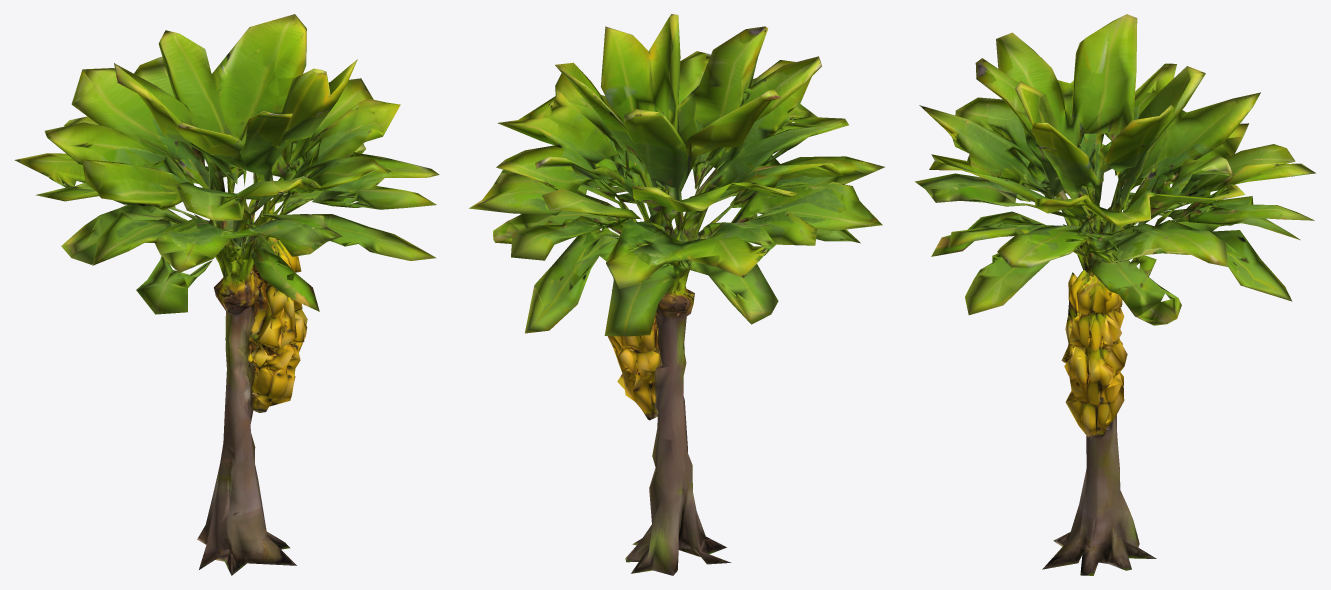
The model's file is pohon_pisang.glb.
3 renders of one model, left to right at view 1: azimuth 30°, elevation 25°; view 2: azimuth 150°, elevation 25°; view 3: azimuth 270°, elevation 25°, orthographic. The views are drawn at different scales.
Parts seen in each view (by area): view 1: Mesh_0.002; view 2: Mesh_0.002; view 3: Mesh_0.002.
Part boxes in pixels (x1=…): Mesh_0.002: x1=14, y1=14, x2=439, y2=575; Mesh_0.002: x1=469, y1=14, x2=884, y2=575; Mesh_0.002: x1=915, y1=14, x2=1315, y2=575.
Size of the model in its own units: 4.16 by 6 by 4.44.
1 material, 1 textured.
